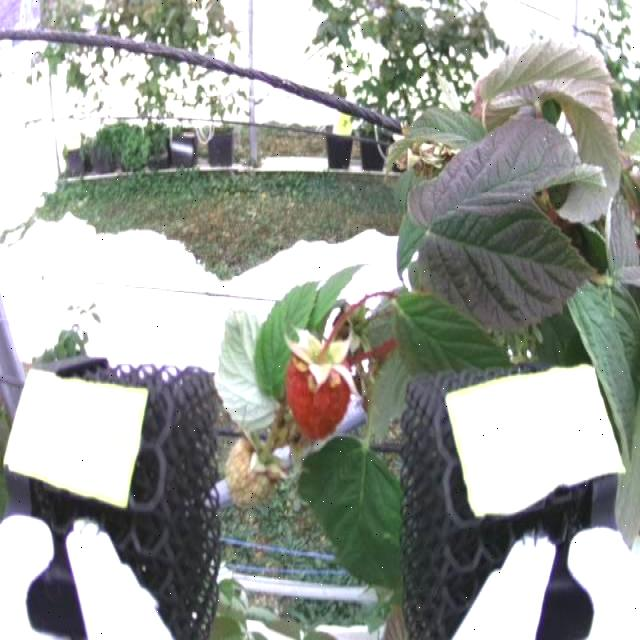Riped berries: (282, 322, 361, 438)
